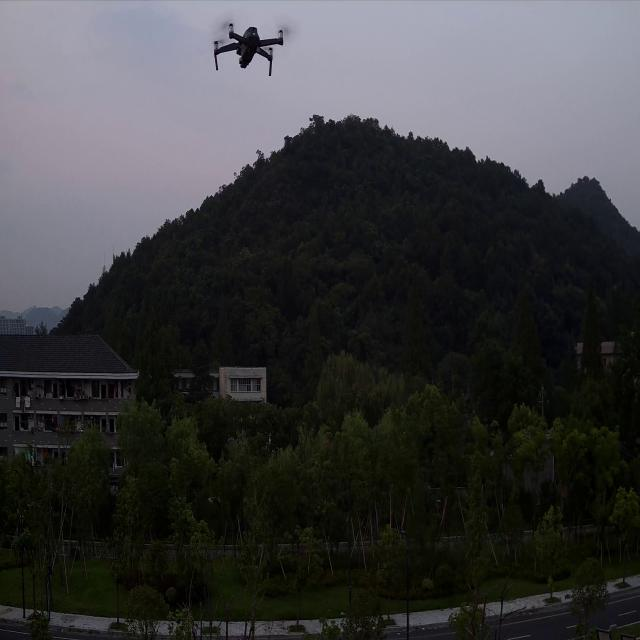UAV: (212, 21, 285, 79)
